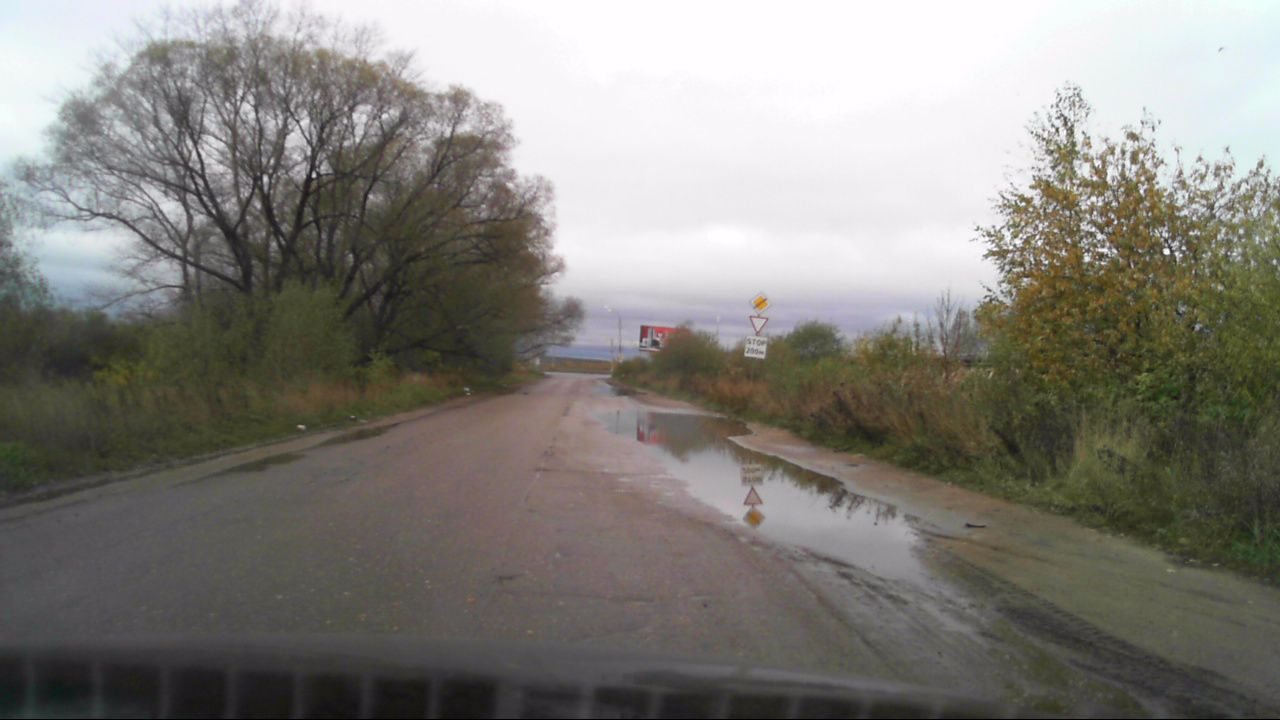main road: (749, 290, 772, 314)
